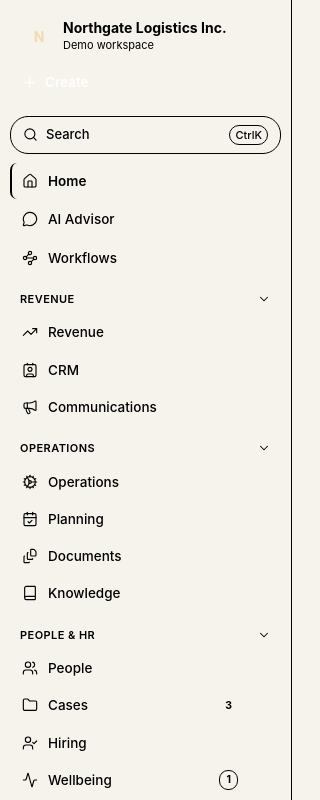
Test: Sidebar › shows the module count on a collapsed People & HR heading
This screenshot has width=320, height=800.
Click the button "People & HR" at {"x": 58, "y": 635}, box left=10, top=612, right=281, bottom=649
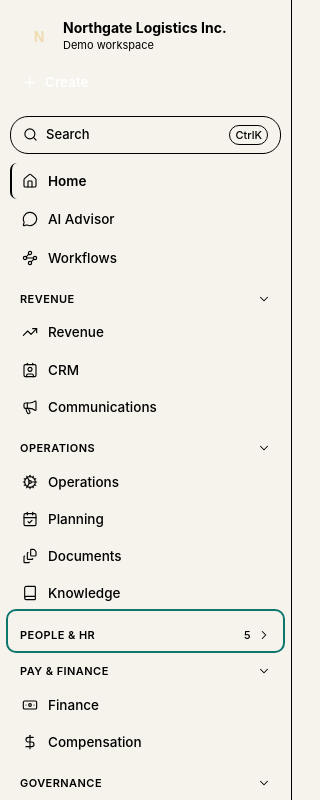
Expected: the button with aria-label "People & HR, 5 items" is shown, left=10, top=612, right=281, bottom=649
Expected: the text "5" is shown, left=244, top=626, right=251, bottom=643
